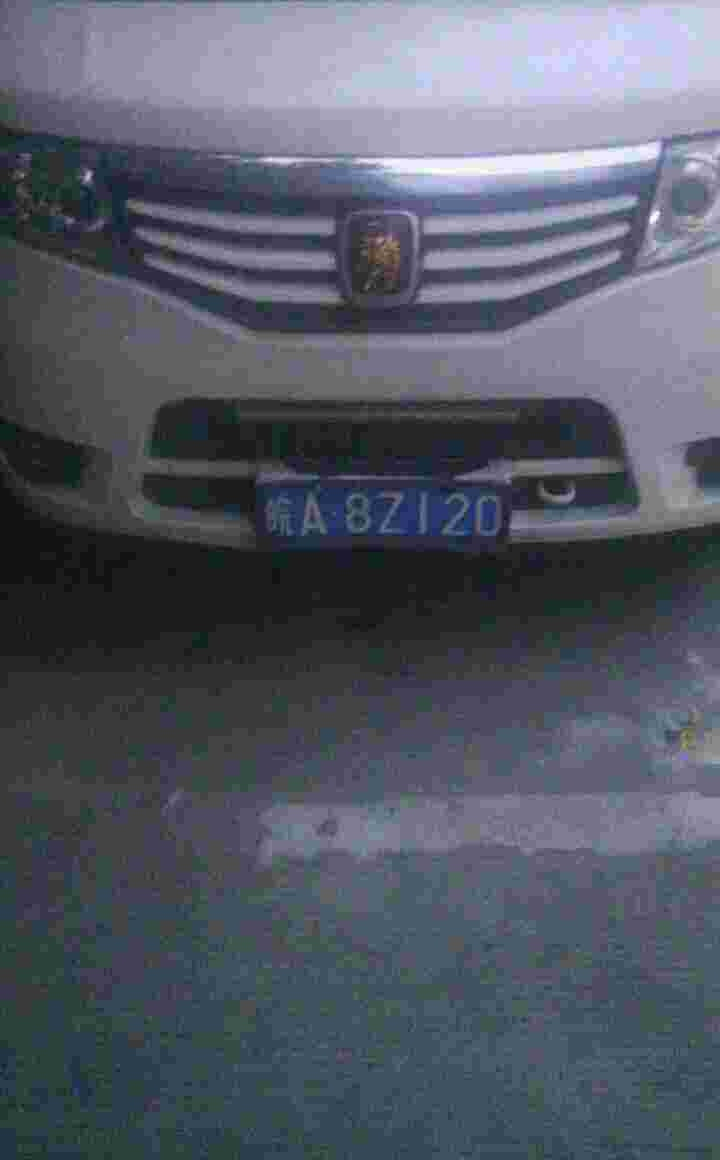license_plate: (254, 465, 507, 548)
